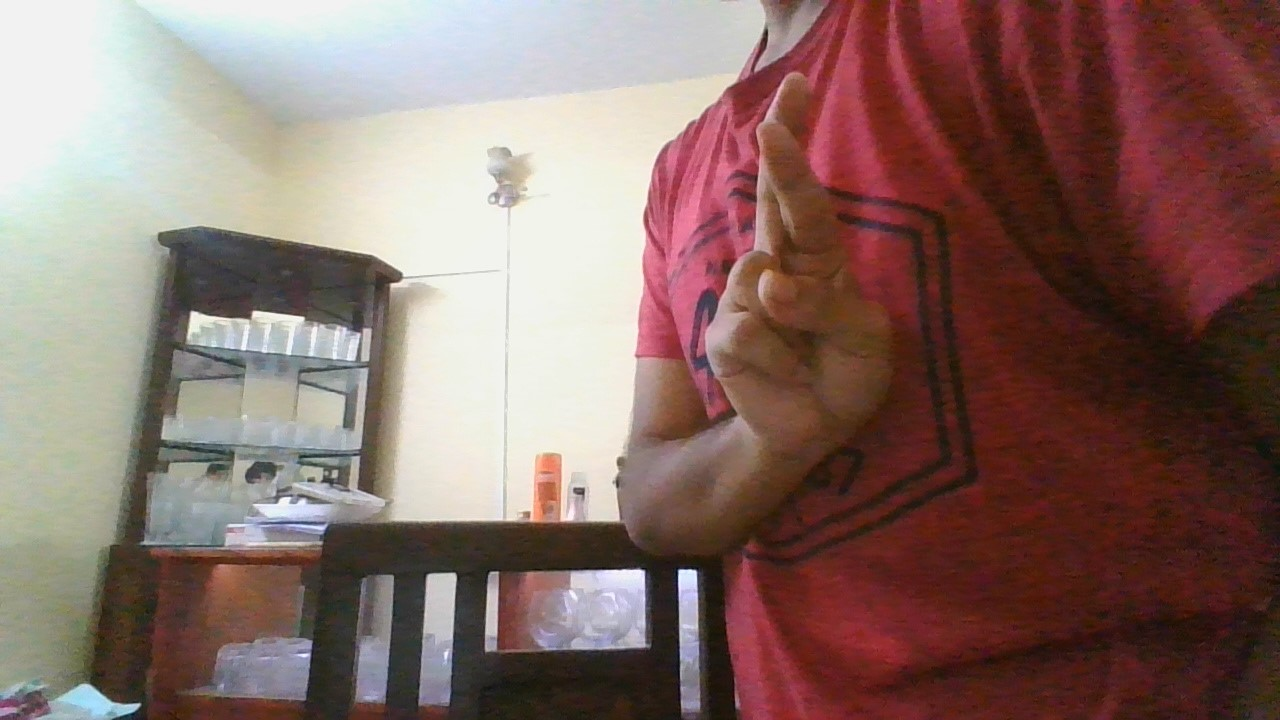r: (698, 66, 901, 465)
